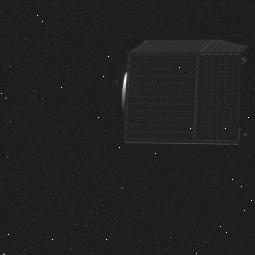cheops: (116, 40, 255, 153)
